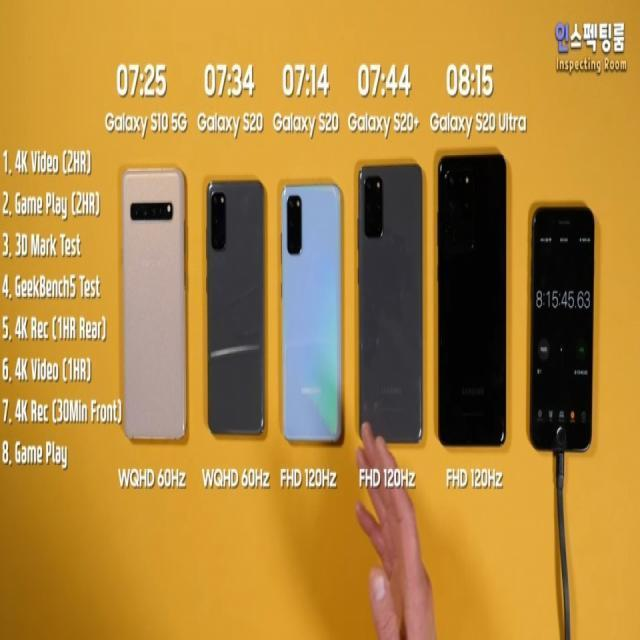phone: (356, 165, 424, 442), (123, 168, 187, 440), (284, 182, 344, 444), (206, 182, 266, 436)
